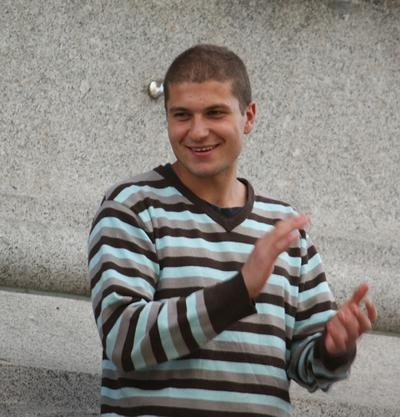person without safety: (87, 44, 296, 405)
